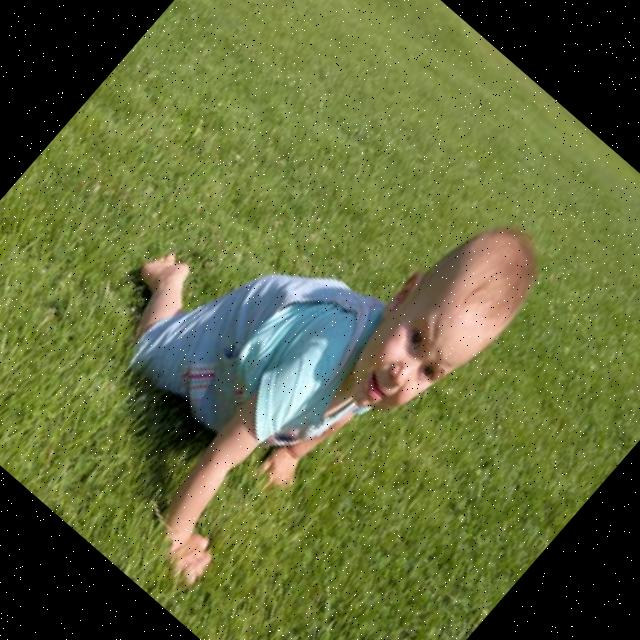Person: (0, 59, 559, 636)
